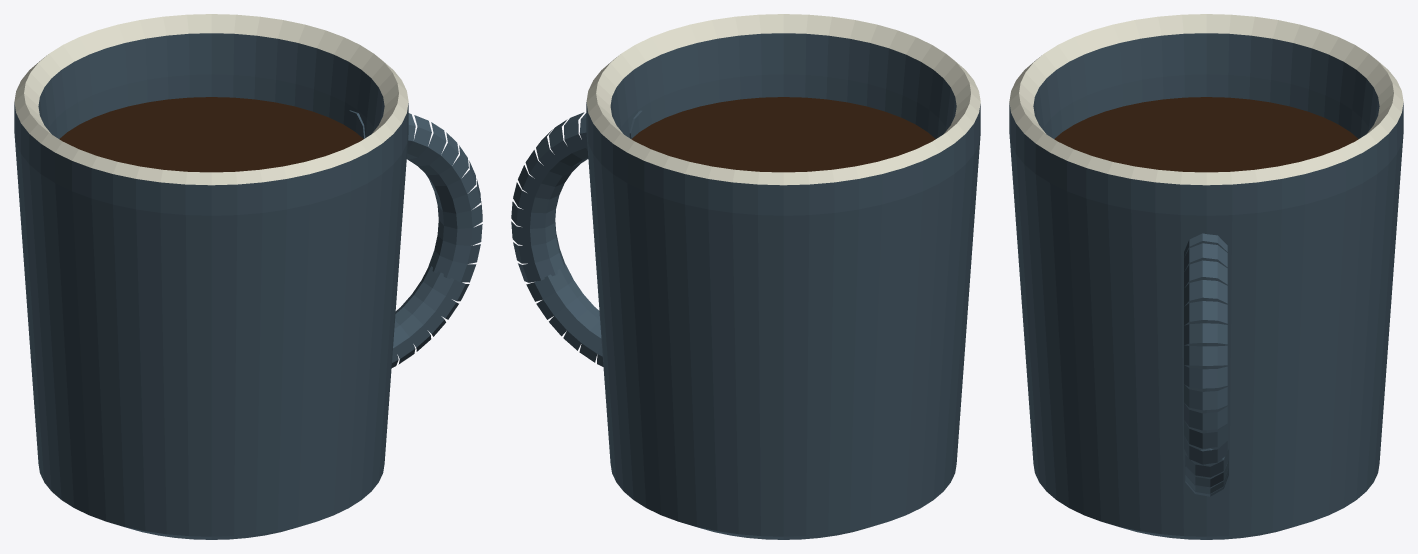
The model's file is enamel_cup.gltf.
3 renders of one model, left to right at view 1: azimuth 30°, elevation 25°; view 2: azimuth 150°, elevation 25°; view 3: azimuth 270°, elevation 25°, orthographic.
Visible parts, largest first — view 1: enamel_cup; view 2: enamel_cup; view 3: enamel_cup.
Part boxes in pixels (box(x1,y1,x2,y2)): enamel_cup: box(14, 14, 482, 539); enamel_cup: box(511, 14, 980, 539); enamel_cup: box(1009, 14, 1403, 539).
Bounding box in the file's own units: 0.1056 × 0.089 × 0.082.
